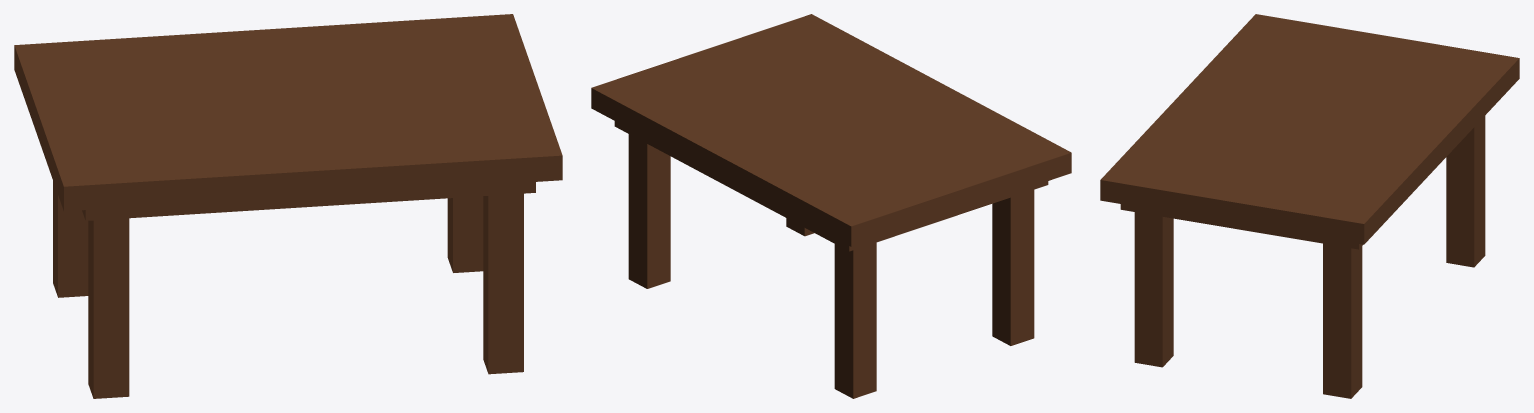
The model's file is stol.fbx.
3 views of the same model, side by side, from view 1: azimuth 30°, elevation 25°; view 2: azimuth 150°, elevation 25°; view 3: azimuth 270°, elevation 25° (orthographic). The views are drawn at different scales.
Visible parts, largest first — view 1: Cube.018; view 2: Cube.018; view 3: Cube.018.
Boxes of the visible parts, x1,y1,x2,y2 form: Cube.018: [14, 14, 562, 398]; Cube.018: [591, 14, 1071, 398]; Cube.018: [1100, 14, 1519, 398].
Size of the model in its own units: 1205 by 509 by 1016.
